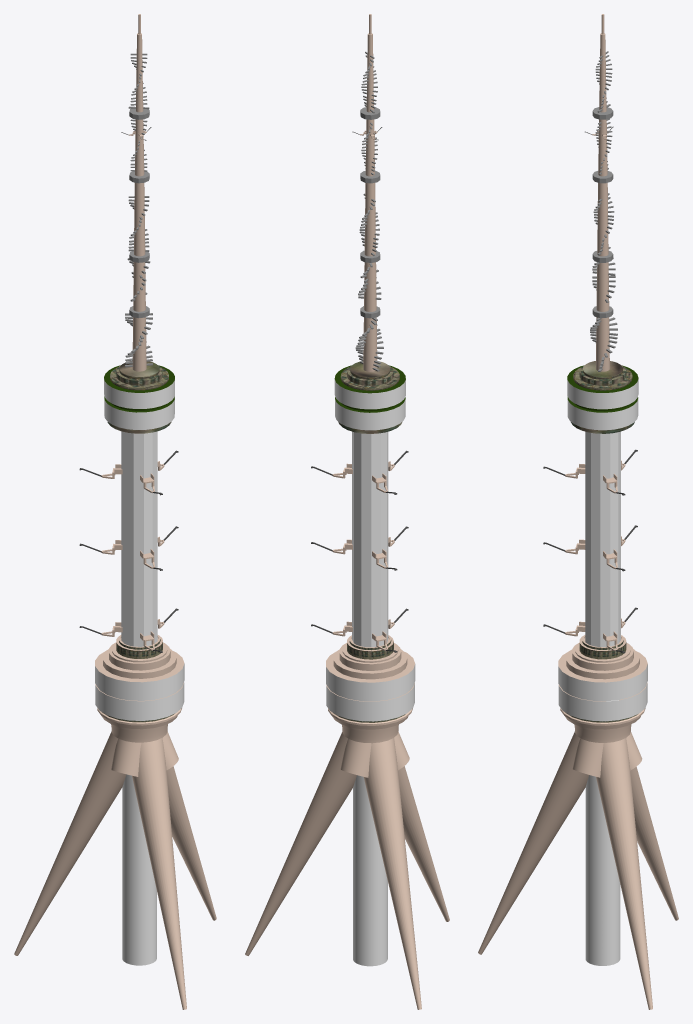
The model's file is Jammer.glb.
3 renders of one model, left to right at view 1: azimuth 30°, elevation 25°; view 2: azimuth 150°, elevation 25°; view 3: azimuth 270°, elevation 25°, orthographic.
Parts seen in each view (by area): view 1: Cylinder_11, Cylinder.001_12, Cylinder.007_18, Cylinder.005_16, Cylinder.002_13, Cylinder.003_14, Cylinder.006_17, Cube.052_1, Cylinder.010_21, Cylinder.004_15; view 2: Cylinder_11, Cylinder.001_12, Cylinder.005_16, Cylinder.002_13, Cylinder.006_17, Cylinder.003_14, Cylinder.007_18, Cube.052_1, Cylinder.008_19, Cylinder.004_15; view 3: Cylinder_11, Cylinder.001_12, Cylinder.006_17, Cylinder.002_13, Cylinder.007_18, Cylinder.003_14, Cylinder.005_16, Cube.052_1, Cylinder.009_20, Cylinder.004_15.
Part boxes in pixels (x1,y1,x2,y2): Cylinder_11: (95,635,184,965); Cylinder.001_12: (121,431,157,646); Cylinder.007_18: (132,738,186,1009); Cylinder.005_16: (14,731,126,955); Cylinder.002_13: (104,360,174,433); Cylinder.003_14: (132,14,146,371); Cylinder.006_17: (166,766,216,920); Cube.052_1: (125,53,152,367); Cylinder.010_21: (111,739,141,776); Cylinder.004_15: (129,108,149,318); Cylinder_11: (326,635,415,966); Cylinder.001_12: (352,431,388,647); Cylinder.005_16: (363,738,421,1009); Cylinder.002_13: (334,361,405,433); Cylinder.006_17: (245,732,356,955); Cylinder.003_14: (363,14,377,371); Cylinder.007_18: (398,766,449,921); Cube.052_1: (355,51,383,371); Cylinder.008_19: (340,738,371,777); Cylinder.004_15: (360,107,380,318); Cylinder_11: (558,635,647,965); Cylinder.001_12: (585,431,620,647); Cylinder.006_17: (596,738,652,1009); Cylinder.002_13: (567,361,638,433); Cylinder.007_18: (478,731,589,954); Cylinder.003_14: (596,14,609,371); Cylinder.005_16: (630,767,678,920); Cube.052_1: (590,51,617,371); Cylinder.009_20: (572,738,603,777); Cylinder.004_15: (592,107,613,317).
Size of the model in its own units: 0.7098 by 3.4 by 0.6528.
Materials: 9 (1 with a texture image).
